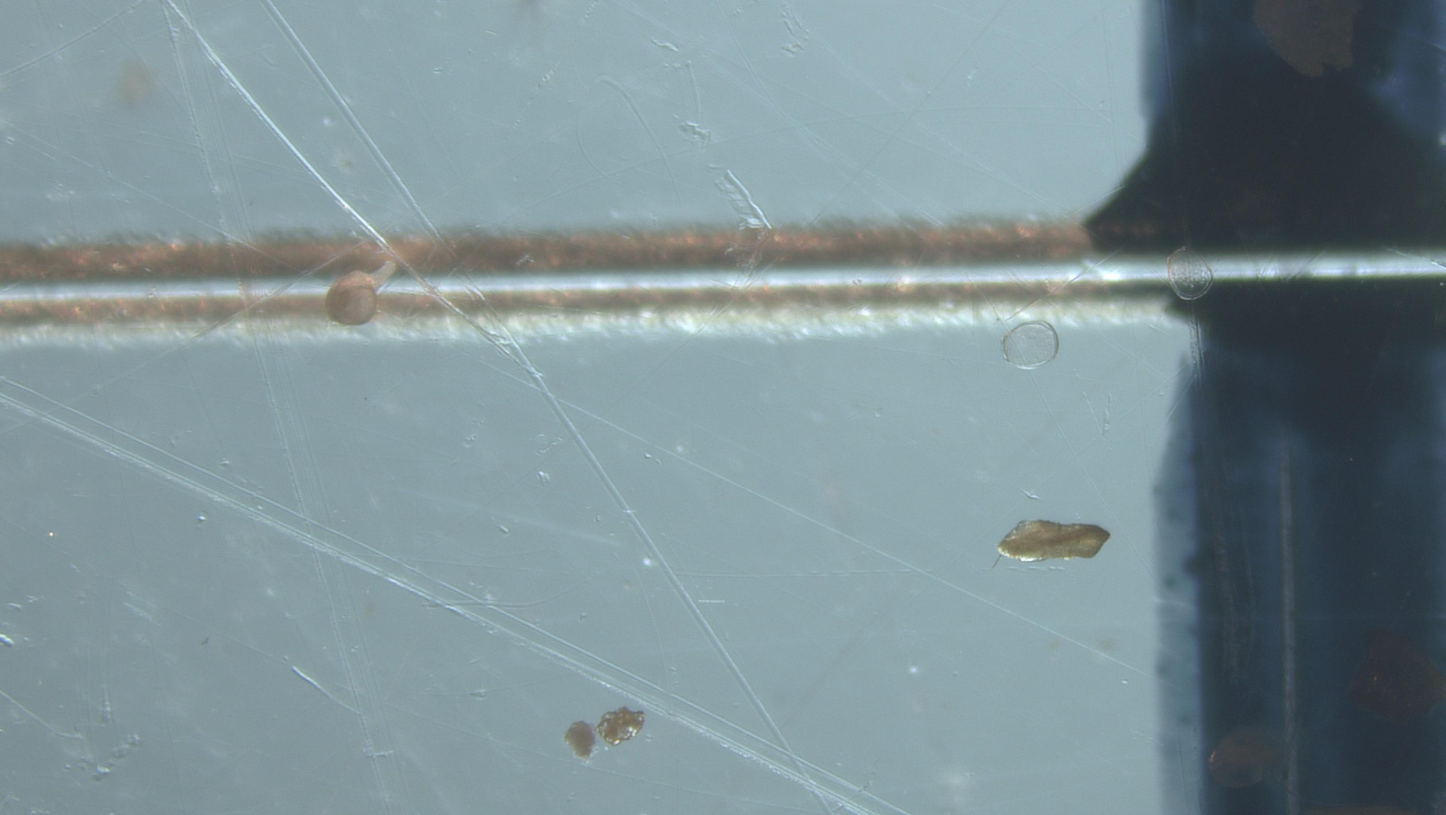dead: (1002, 322, 1059, 369), (1167, 247, 1214, 300)
live: (325, 260, 398, 326)
